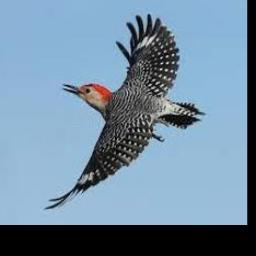Woodpecker: (43, 13, 206, 210)
